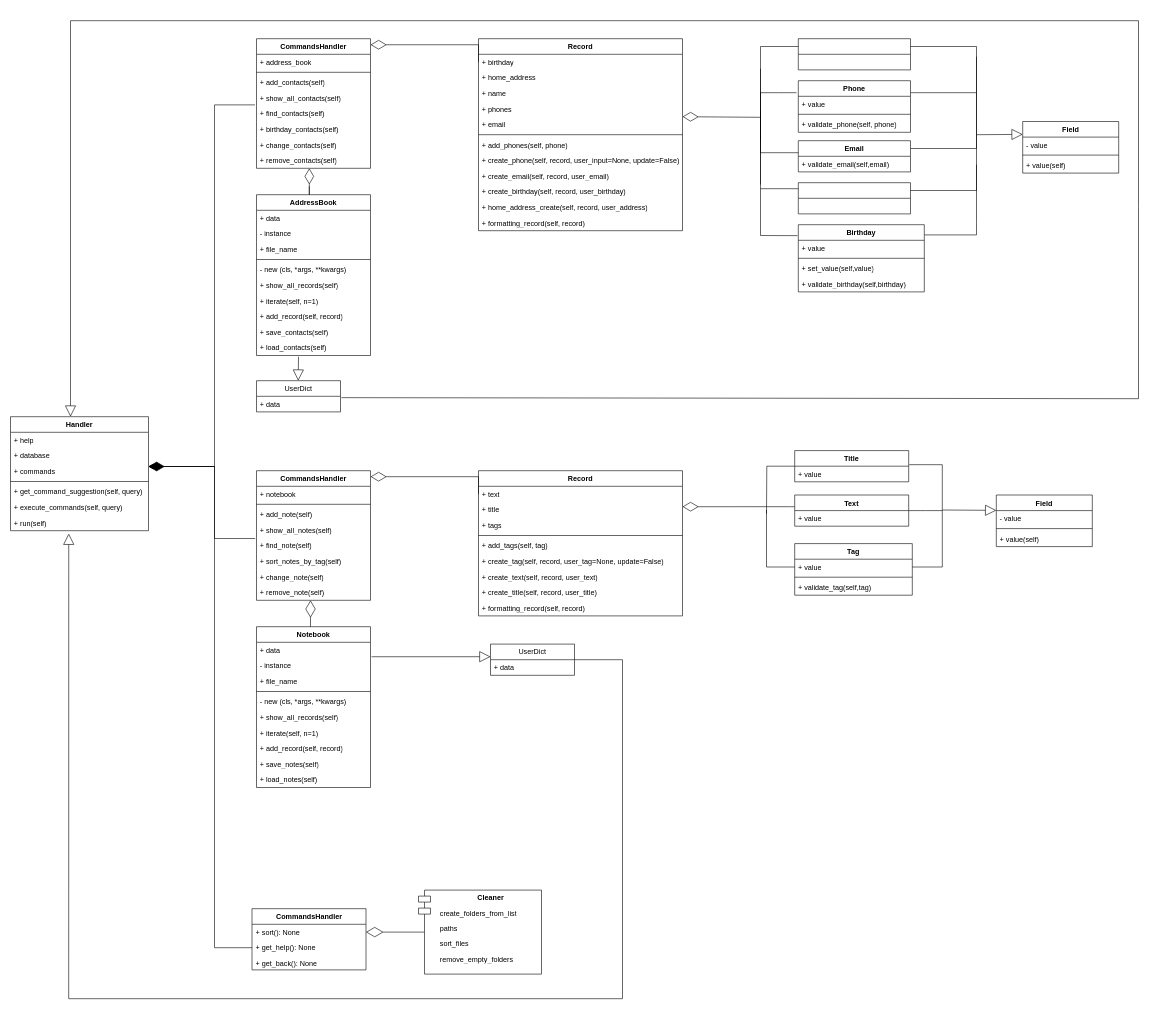
This 1160x1020 diagram has some shape labels left out. Here are the shapes that lost their labels. From the top down, the centre of each, then its label:
At pixel 854 54: "Name".
At pixel 854 198: "HomeAddress".
